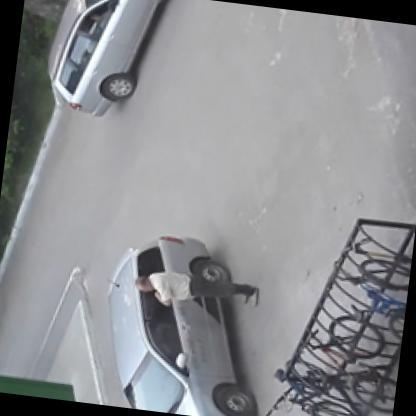Human Body: (126, 259, 260, 315)
